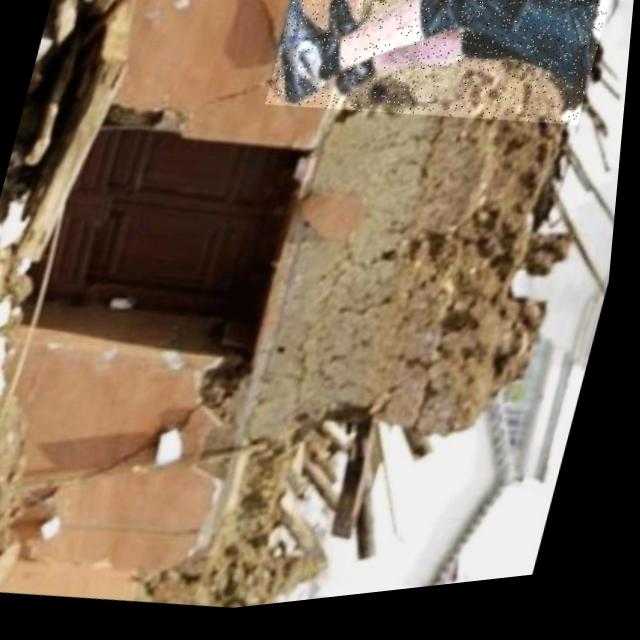Person in Rubble: (262, 0, 617, 166)
